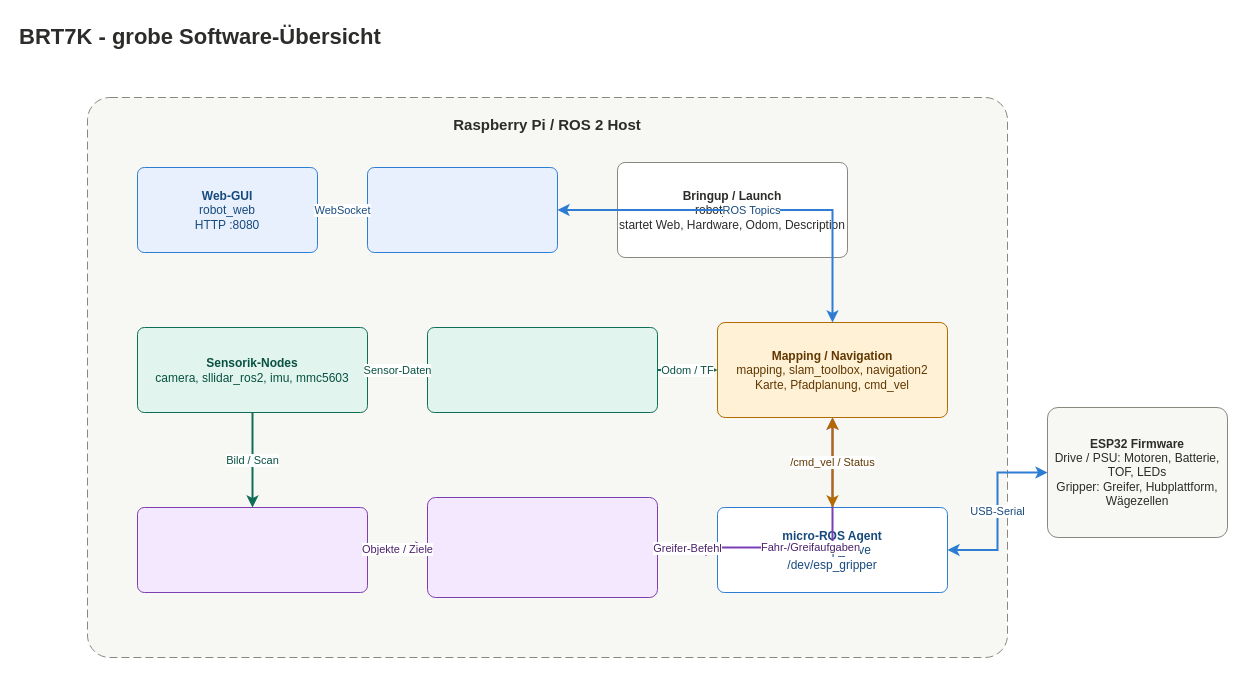
Some shapes in this 1245 by 675 pixel diagram are drawn without their labels. The shapes that lost their labels are listed below. From the top down, each one's box as (x1, y1, x2, y2) in pixels, then its label:
(366, 166, 558, 252): ROS Bridge rosbridge_websocket WebSocket :9090
(426, 326, 658, 412): Odometrie / Lokalisierung odometry, ekf, robot_description
(136, 506, 368, 592): Objekt- und Raumlogik room_vision, edge_color, object_localizer
(426, 496, 658, 598): Aufgabenlogik task_manager, object_manager, corner_manager, object_task_executor
